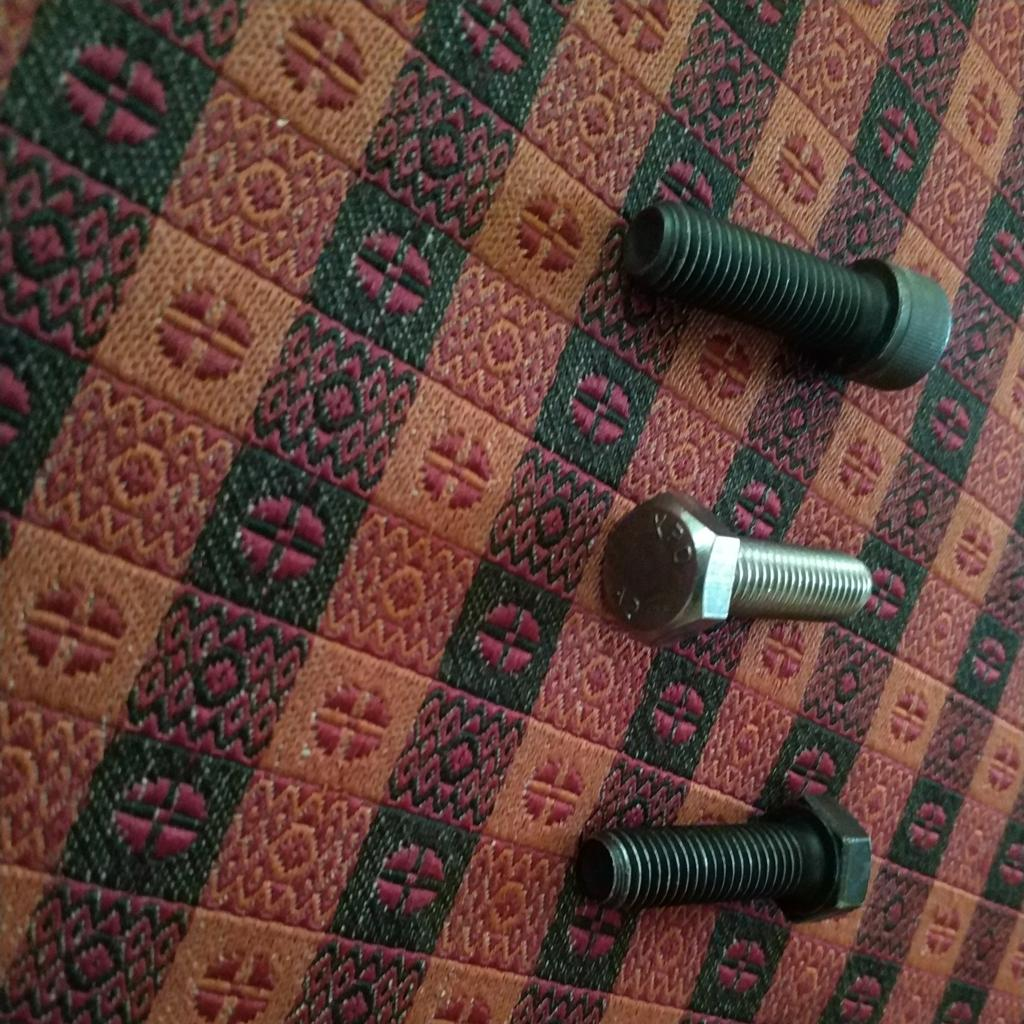screwtype1black: (609, 184, 957, 398)
screwtype2black: (573, 779, 873, 936)
screwtype2silver: (591, 491, 874, 645)
